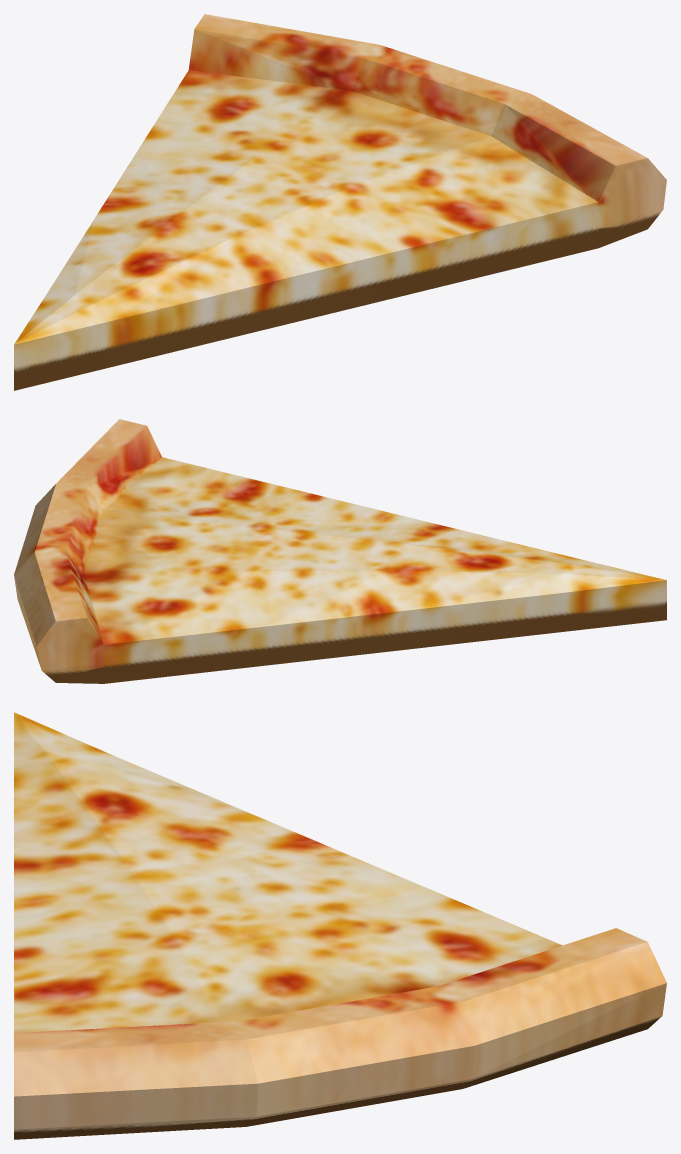
File: e0ce2ab9-df86-4d61-9bde-28a09892b81a.glb
3 renders of one model, top to bottom at view 1: azimuth 30°, elevation 25°; view 2: azimuth 150°, elevation 25°; view 3: azimuth 270°, elevation 25°, orthographic. The views are drawn at different scales.
Parts seen in each view (by area): view 1: Node; view 2: Node; view 3: Node.
Part boxes in pixels (x1,y1,x2,y2): Node: [14, 14, 666, 390]; Node: [14, 419, 666, 683]; Node: [14, 712, 666, 1139].
Size of the model in its own units: 2.66 by 0.3048 by 1.88.
1 material, 1 textured.
